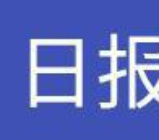TextView: (1, 1, 158, 139)
